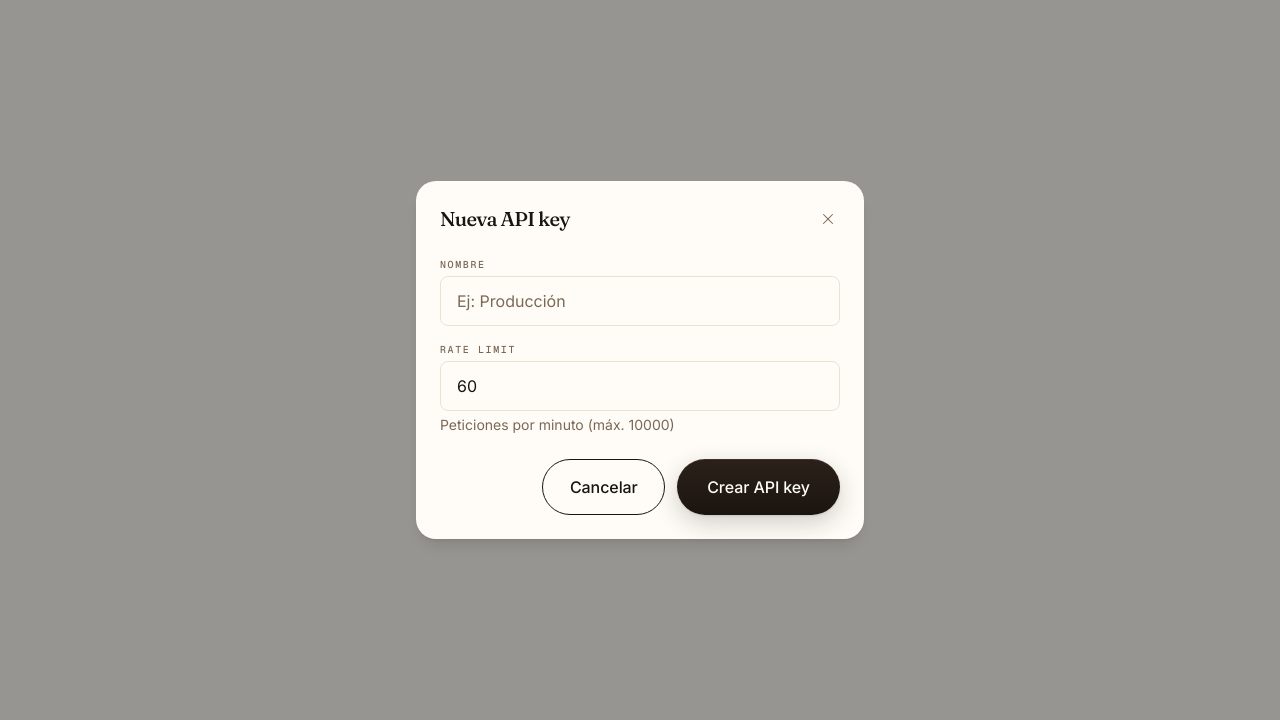
Test: CreateApiKeyDialog › shows plain key after creation
The width and height of the screenshot is (1280, 720).
In the field labelled "Nombre": (640, 301) [440,276,840,326], type "My Key"
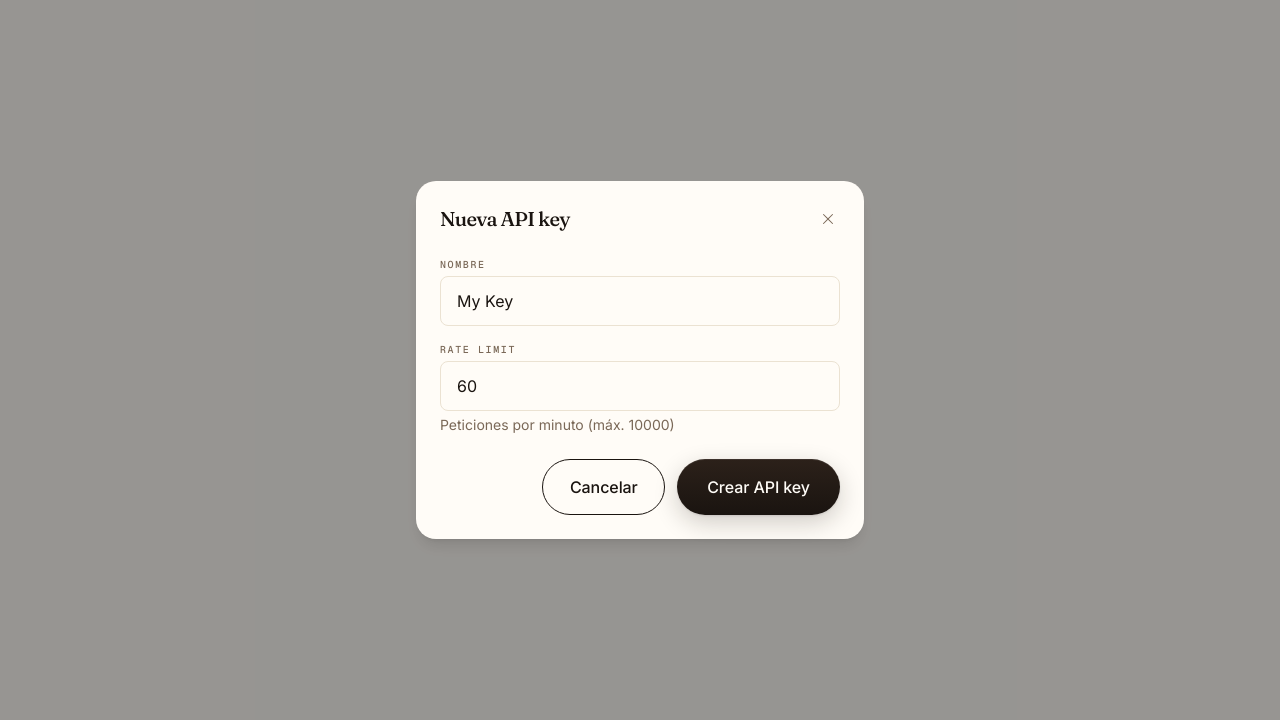
Submit the form, box [440,257,840,515]
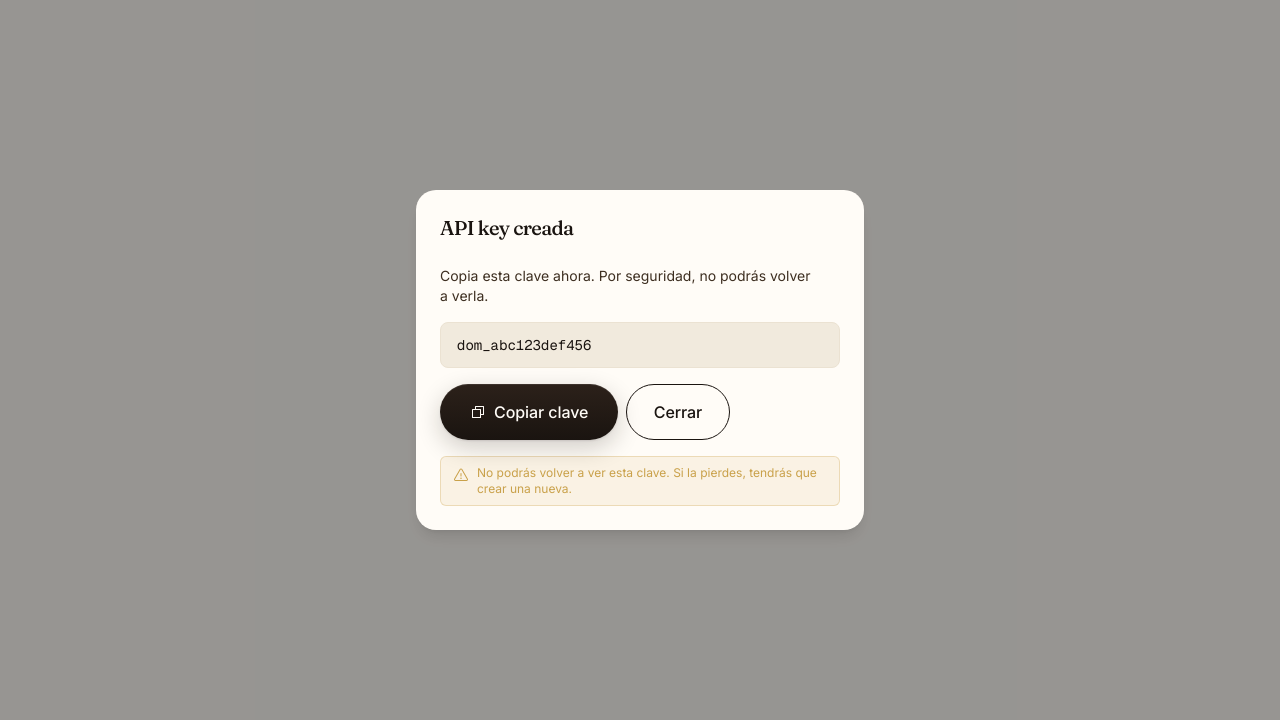
Expected: the text "dom_abc123def456" is shown, [440,322,840,368]
